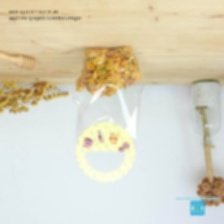snack: (66, 41, 151, 186)
